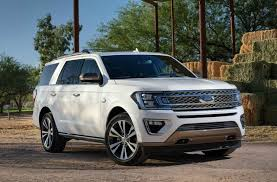Ford: (36, 51, 246, 162)
